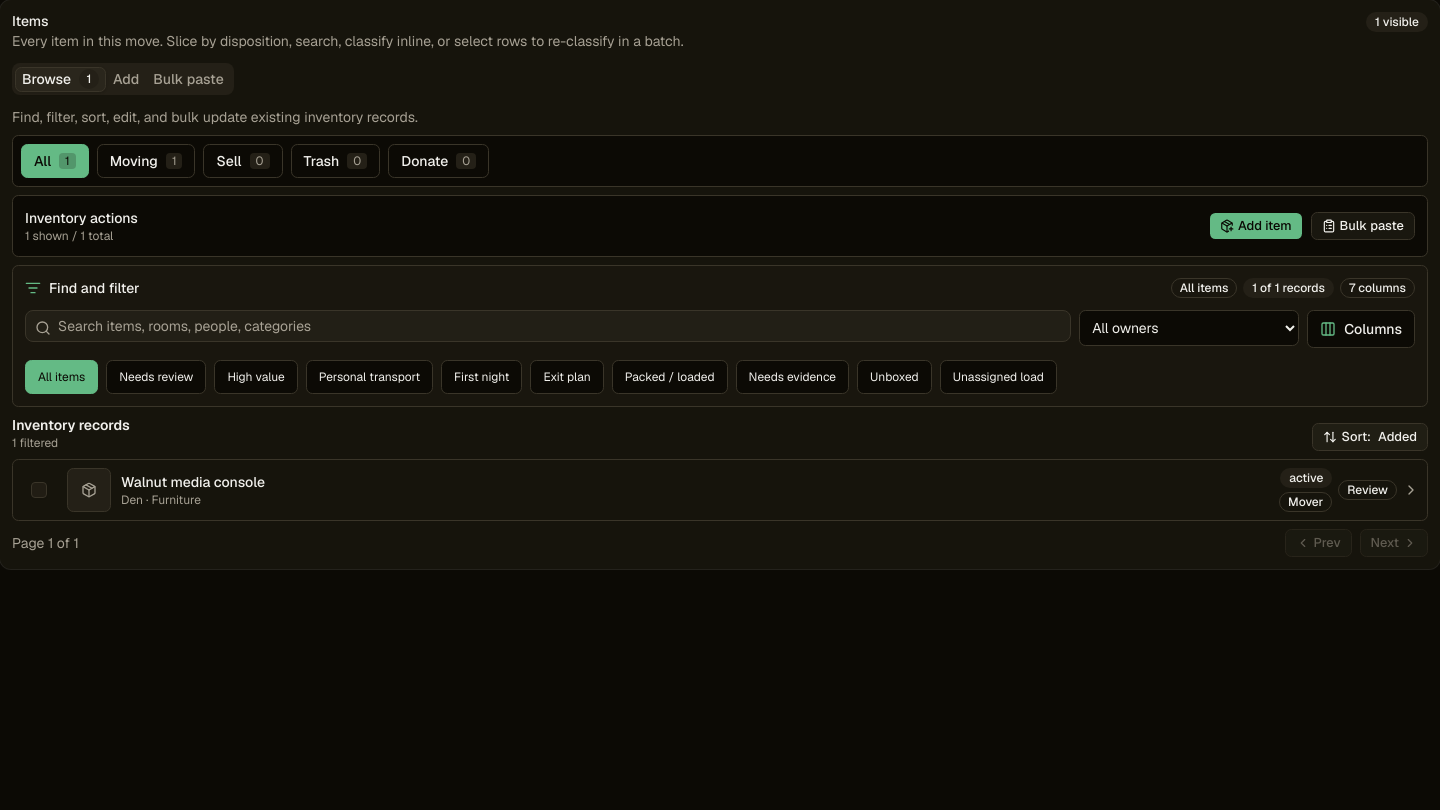
InventoryTable › opens on browsing items and keeps add/import workflows separate
The width and height of the screenshot is (1440, 810).
Expected: the text "Find, filter, sort, edit, and bulk update existing inventory records." is shown, top-left (12, 108), bottom-right (418, 126)
Expected: the text "Walnut media console" is shown, top-left (121, 473), bottom-right (265, 491)
Click the tab "Add" at (126, 79), box top-left (106, 67), bottom-right (146, 92)
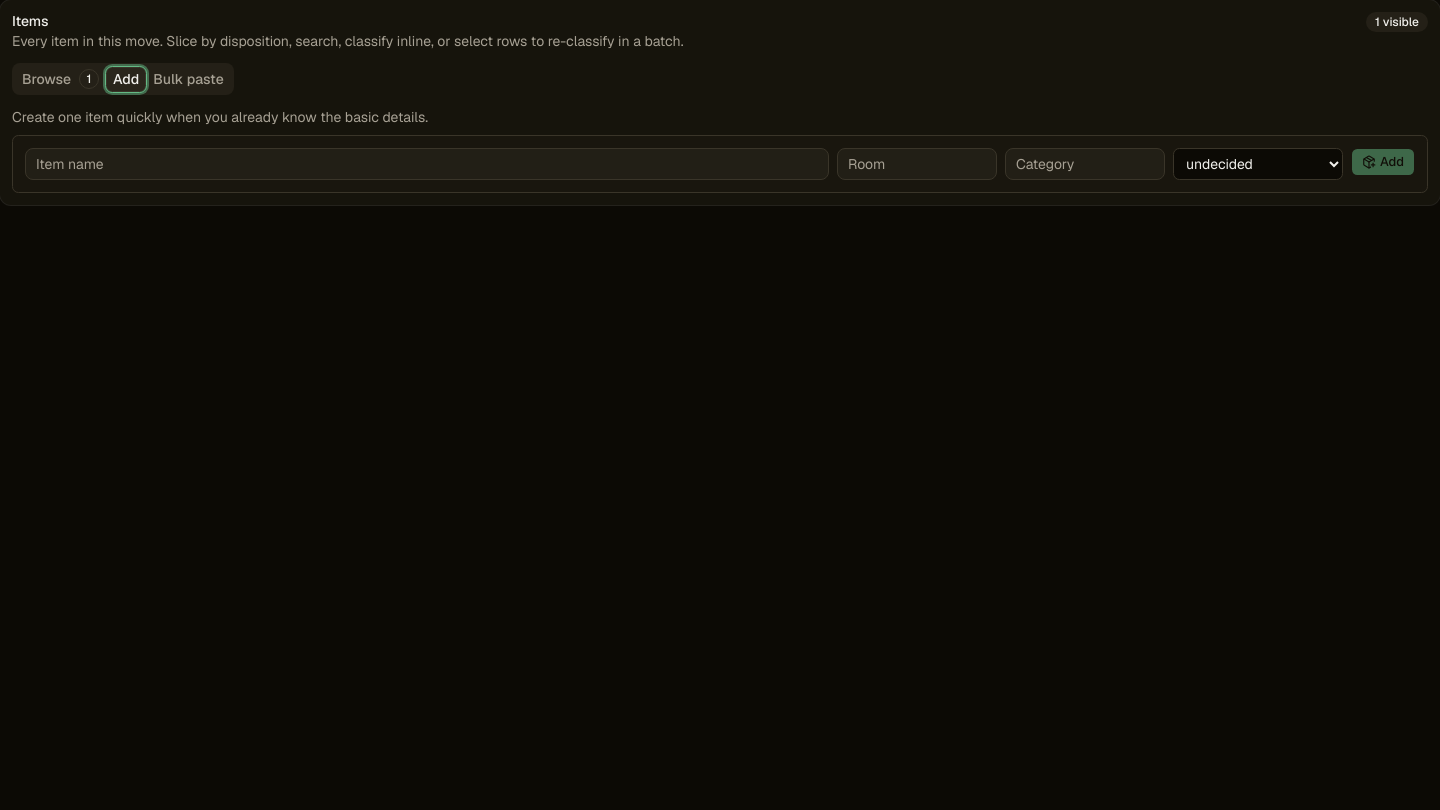
Expected: the text "Create one item quickly when you already know the basic details." is shown, top-left (12, 108), bottom-right (428, 126)
Expected: the field named "New item name" is shown, top-left (25, 148), bottom-right (829, 180)
Expected: the button "Walnut media console" is gone
Click the tab "Bulk paste" at (188, 79), box top-left (146, 67), bottom-right (231, 92)
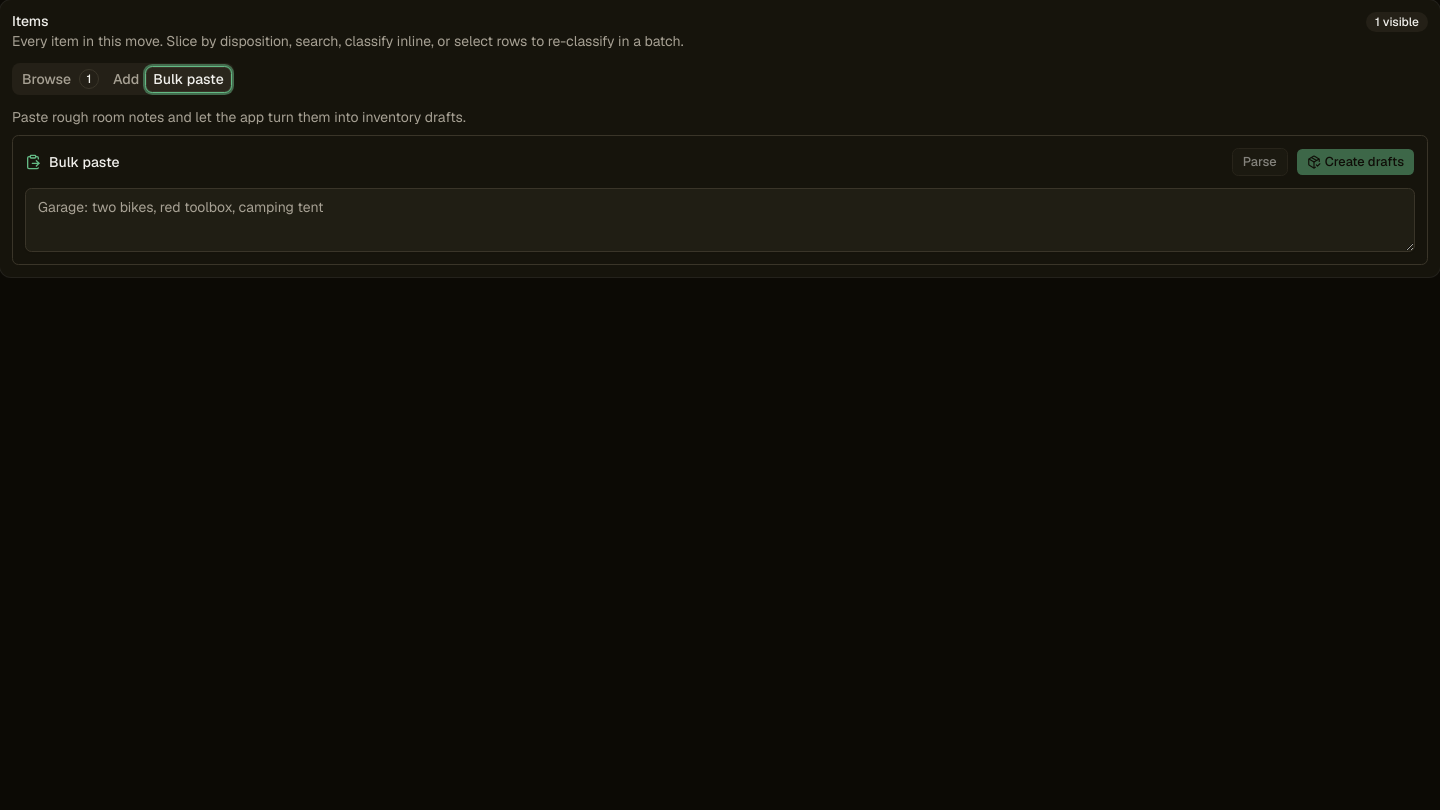
Expected: the text "Paste rough room notes and let the app turn them into inventory drafts." is shown, top-left (12, 108), bottom-right (466, 126)
Expected: the text box with placeholder "Garage: two bikes, red toolbox, camping tent" is shown, top-left (25, 188), bottom-right (1415, 252)
